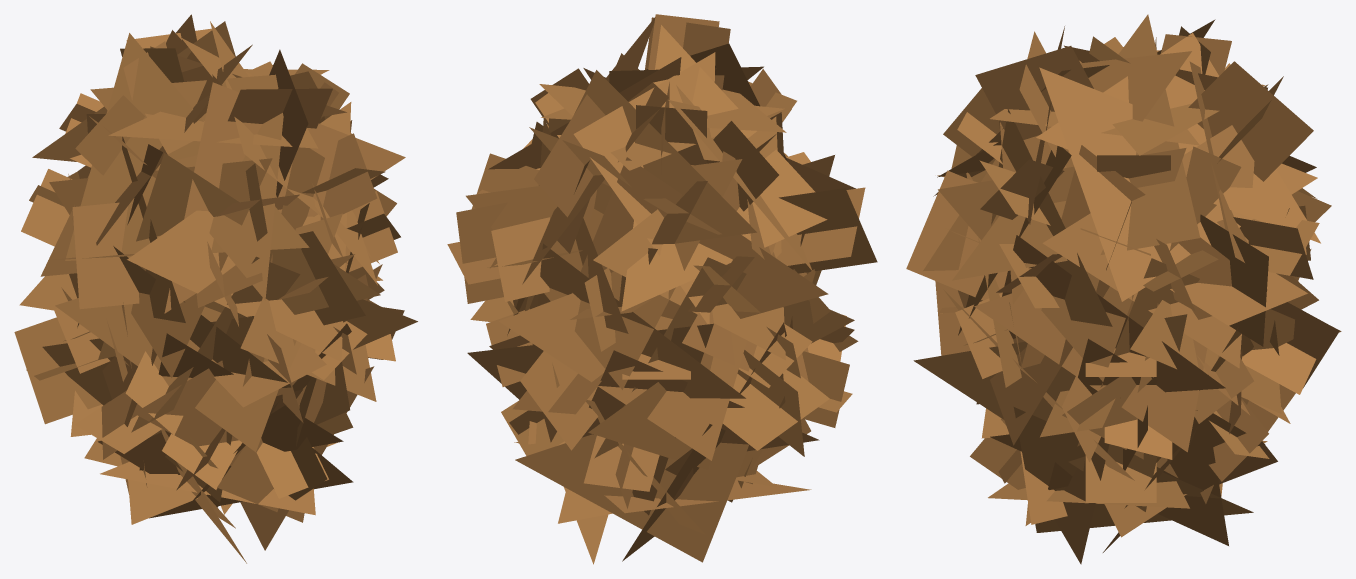
The model's file is Shrub_Tall_Yellow.glb.
3 renders of one model, left to right at view 1: azimuth 30°, elevation 25°; view 2: azimuth 150°, elevation 25°; view 3: azimuth 270°, elevation 25°, orthographic. The views are drawn at different scales.
Visible parts, largest first — view 1: Shrub_Tall_Yellow; view 2: Shrub_Tall_Yellow; view 3: Shrub_Tall_Yellow.
Part boxes in pixels (x1=…): Shrub_Tall_Yellow: x1=14, y1=14, x2=417, y2=563; Shrub_Tall_Yellow: x1=447, y1=14, x2=877, y2=564; Shrub_Tall_Yellow: x1=906, y1=14, x2=1341, y2=564.
Size of the model in its own units: 0.9104 by 1.21 by 0.9377.
